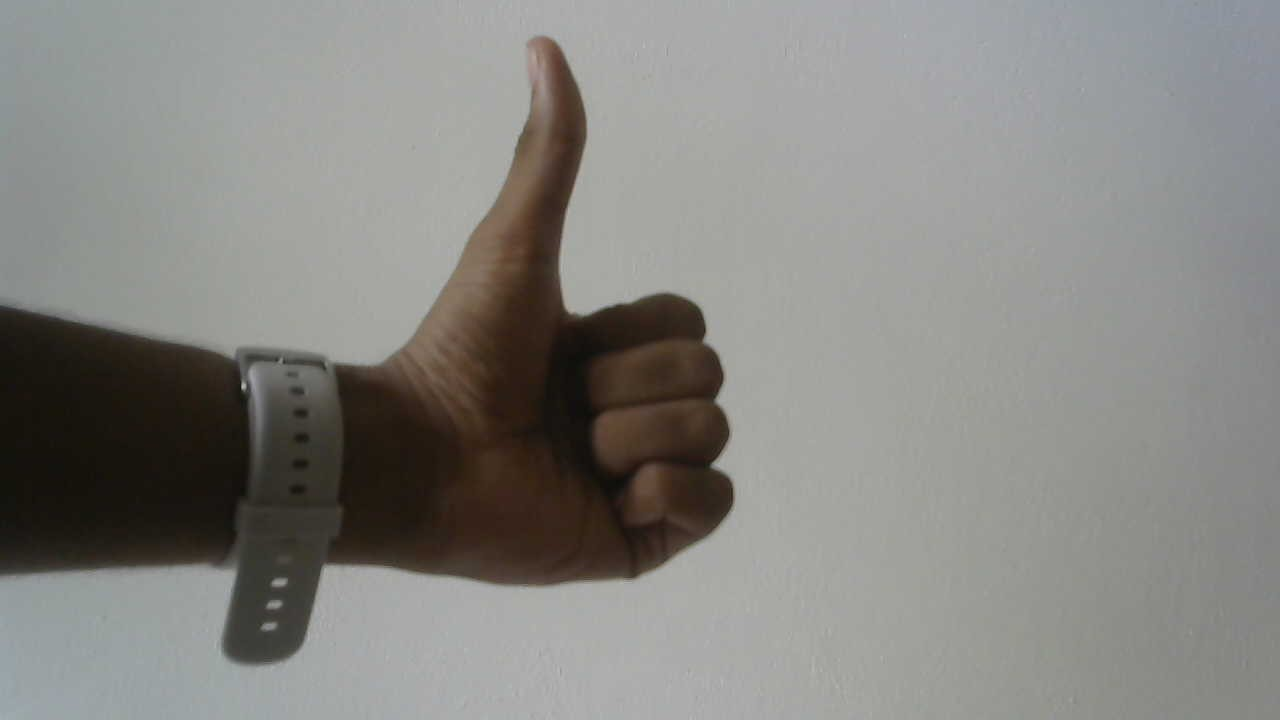thumbsup: (388, 27, 751, 610)
